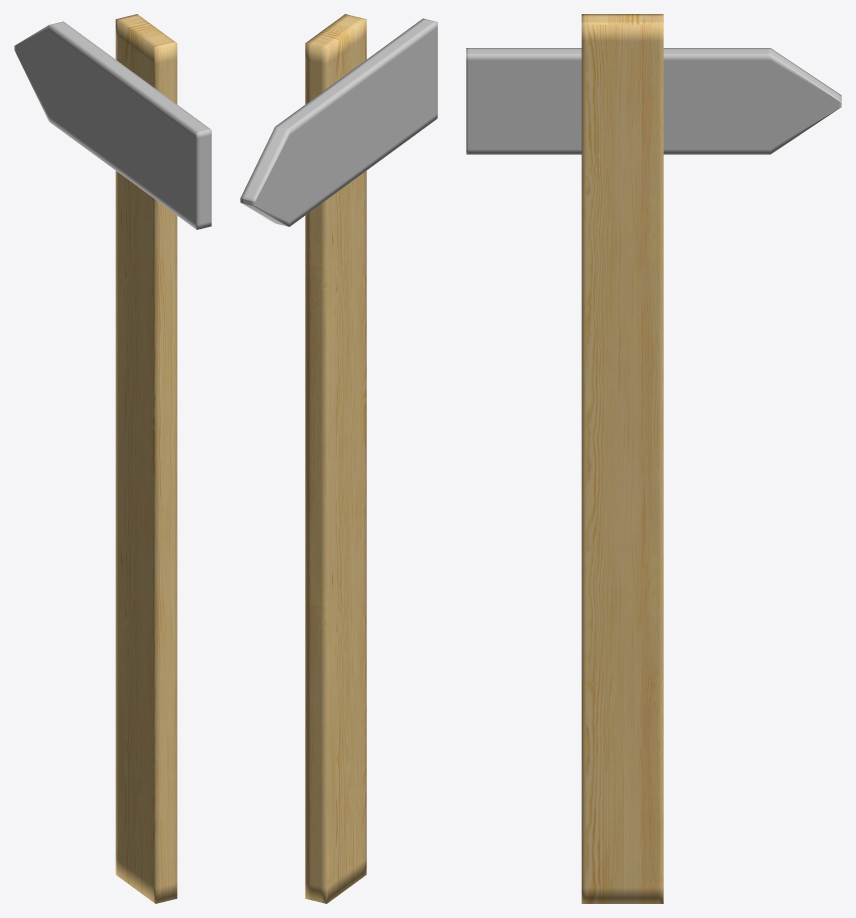
File: sign.obj
3 renders of one model, left to right at view 1: azimuth 30°, elevation 25°; view 2: azimuth 150°, elevation 25°; view 3: azimuth 270°, elevation 25°, orthographic. The views are drawn at different scales.
Visible parts, largest first — view 1: Sign_Base_Cube, Sign_Arrow_Cube.001; view 2: Sign_Base_Cube, Sign_Arrow_Cube.001; view 3: Sign_Base_Cube, Sign_Arrow_Cube.001.
Boxes of the visible parts, left/top/right/bottom form: Sign_Base_Cube: left=115, top=14, right=177, bottom=903; Sign_Arrow_Cube.001: left=14, top=21, right=211, bottom=229; Sign_Base_Cube: left=305, top=14, right=366, bottom=903; Sign_Arrow_Cube.001: left=240, top=18, right=437, bottom=226; Sign_Base_Cube: left=581, top=14, right=663, bottom=903; Sign_Arrow_Cube.001: left=466, top=48, right=841, bottom=154.
Bounding box in the file's own units: 0.0808 × 1.82 × 0.704.
1 material, 1 textured.
